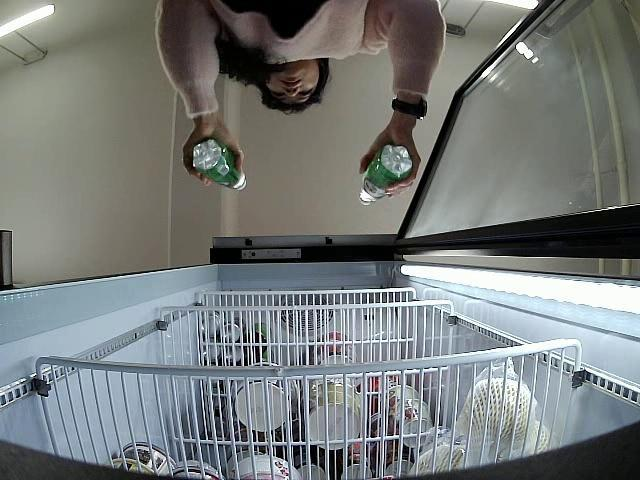18_trevi: (359, 144, 414, 205), (190, 138, 247, 193)
